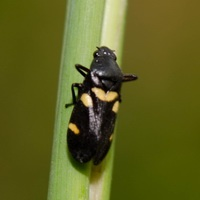insect: (65, 46, 137, 164)
